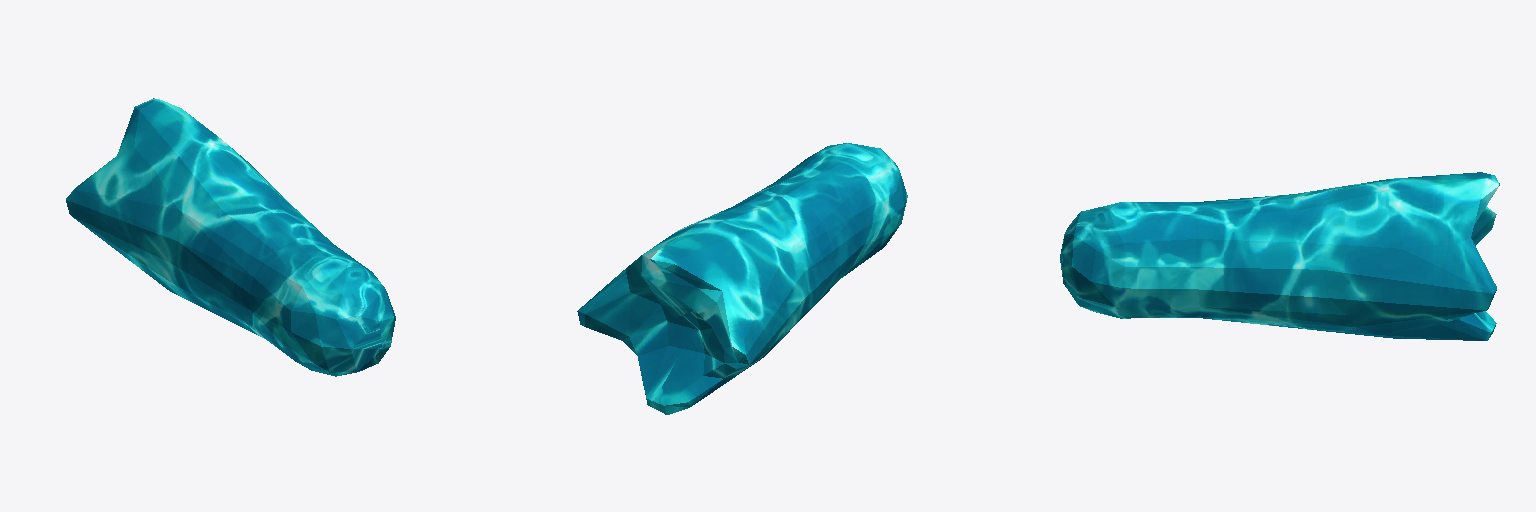
3 renders of one model, left to right at view 1: azimuth 30°, elevation 25°; view 2: azimuth 150°, elevation 25°; view 3: azimuth 270°, elevation 25°, orthographic.
Parts seen in each view (by area): view 1: Group11361; view 2: Group11361; view 3: Group11361.
Part boxes in pixels (x1,y1,x2,y2): Group11361: (66,98,395,376); Group11361: (577,143,907,414); Group11361: (1060,172,1499,340).
Bounding box in the file's own units: 1.4 × 1.27 × 3.17.
Materials: 1 (1 with a texture image).